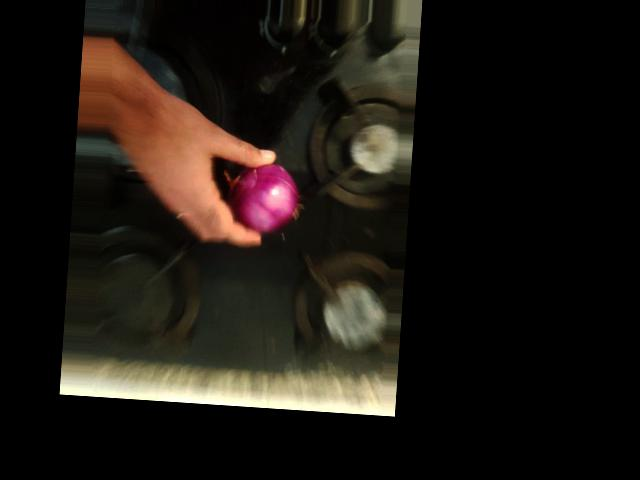onion: (268, 224, 362, 311)
